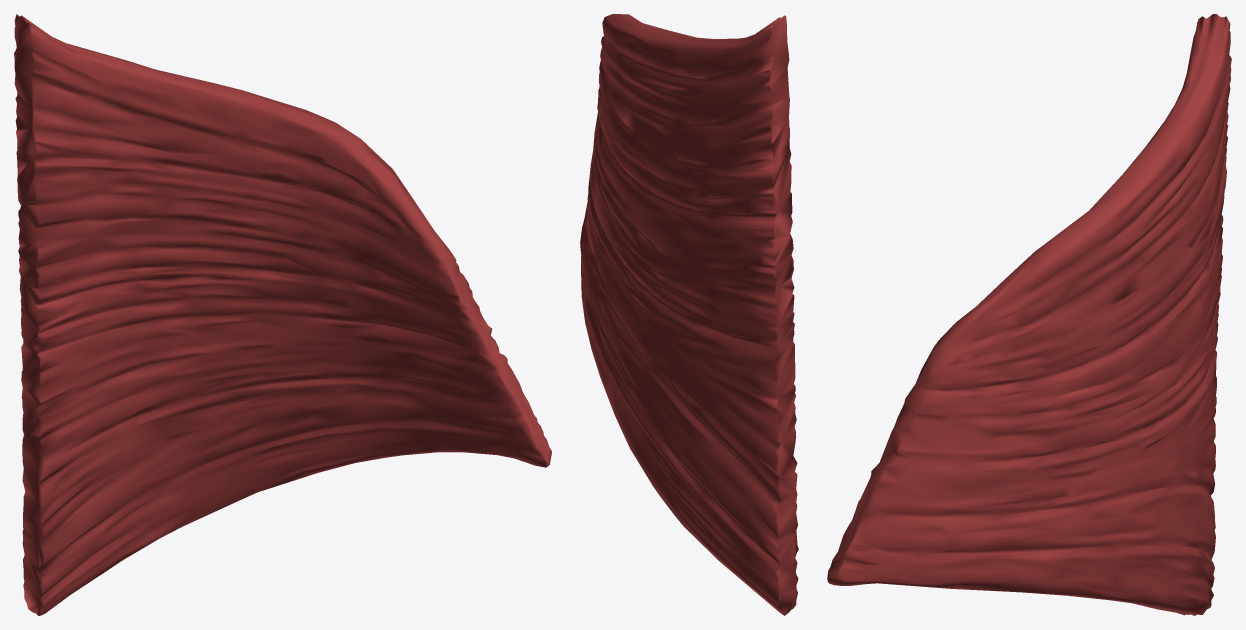
Rendered from superior-pharyngeal-constrictor-l.glb.
3 views of the same model, side by side, from view 1: azimuth 30°, elevation 25°; view 2: azimuth 150°, elevation 25°; view 3: azimuth 270°, elevation 25° (orthographic). The views are drawn at different scales.
Visible parts, largest first — view 1: Superior pharyngeal constrictor.l; view 2: Superior pharyngeal constrictor.l; view 3: Superior pharyngeal constrictor.l.
Boxes of the visible parts, x1=… form: Superior pharyngeal constrictor.l: x1=14, y1=14, x2=551, y2=615; Superior pharyngeal constrictor.l: x1=580, y1=14, x2=798, y2=615; Superior pharyngeal constrictor.l: x1=827, y1=14, x2=1231, y2=615.
Bounding box in the file's own units: 0.033 × 0.0536 × 0.0327.
